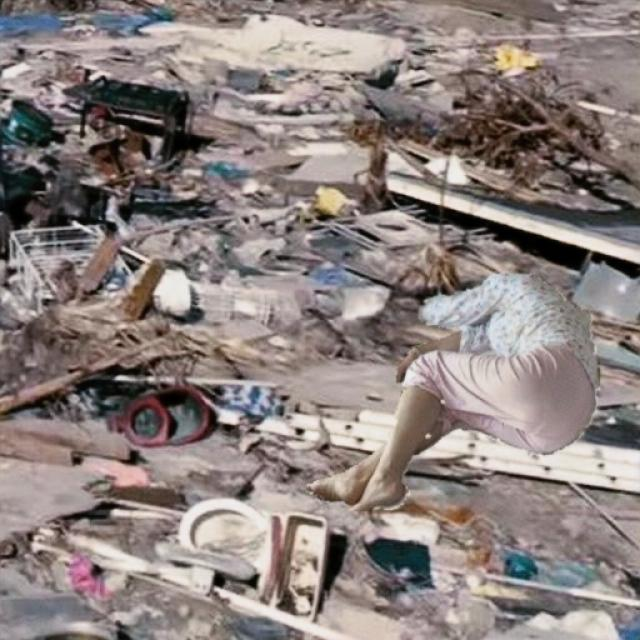Person in Rubble: (306, 274, 599, 510)
